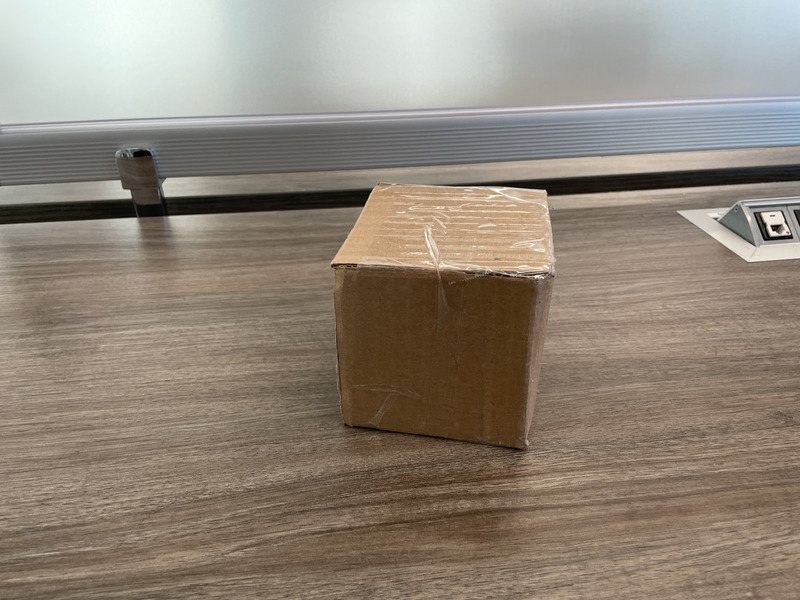payload3: (320, 175, 573, 467)
